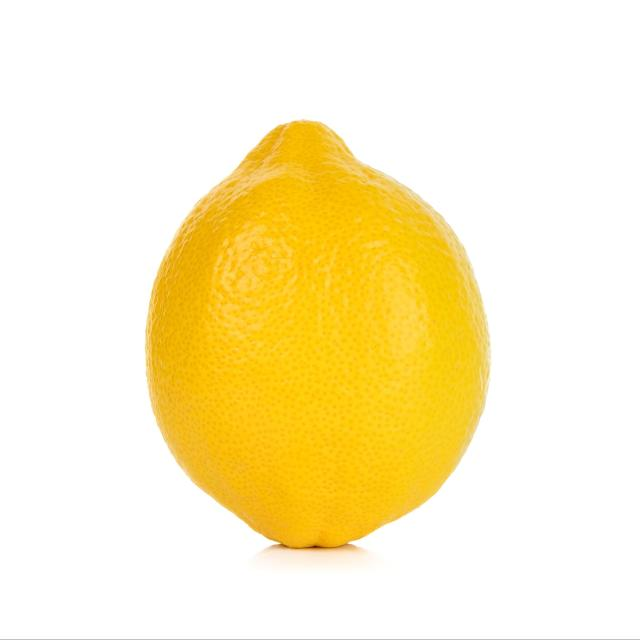lemon: (138, 117, 496, 557)
